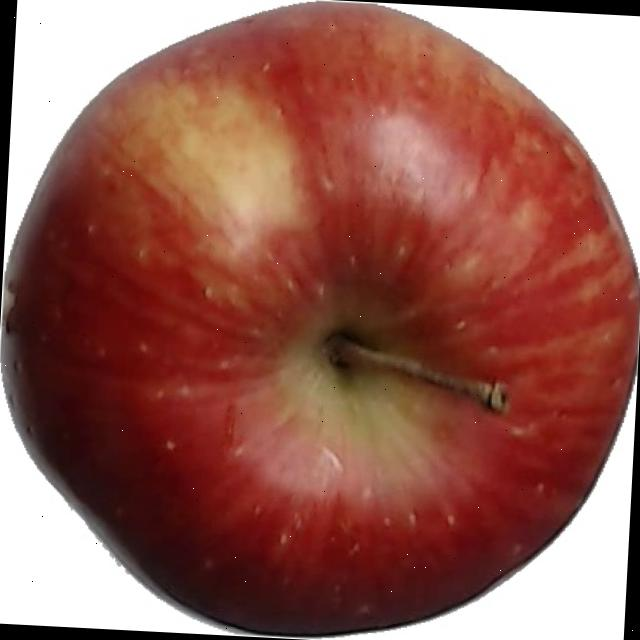apple: (4, 3, 638, 635)
